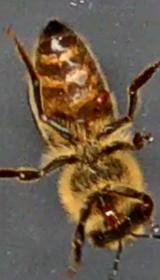varroa_mite: (81, 81, 122, 130)
